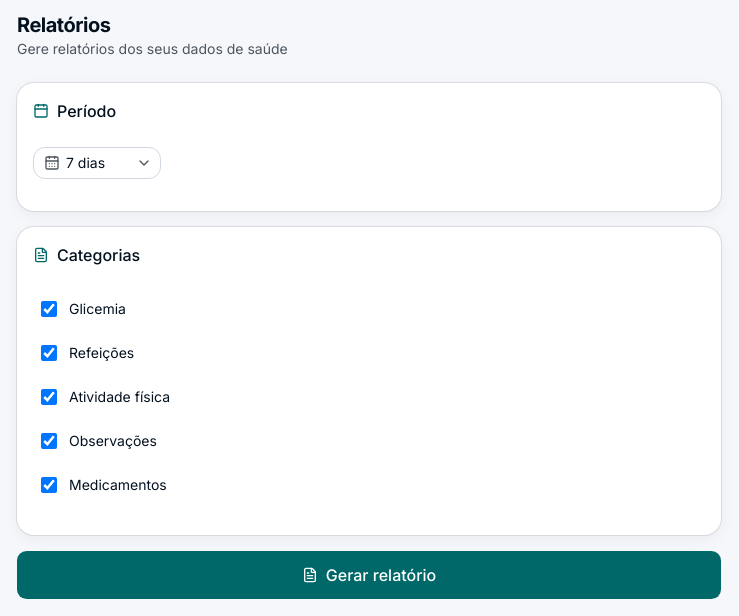
ReportsWidget › disables the generate action when no category is selected
Click the checkbox labelled "Glicemia" at (49, 309), box [41, 301, 57, 317]
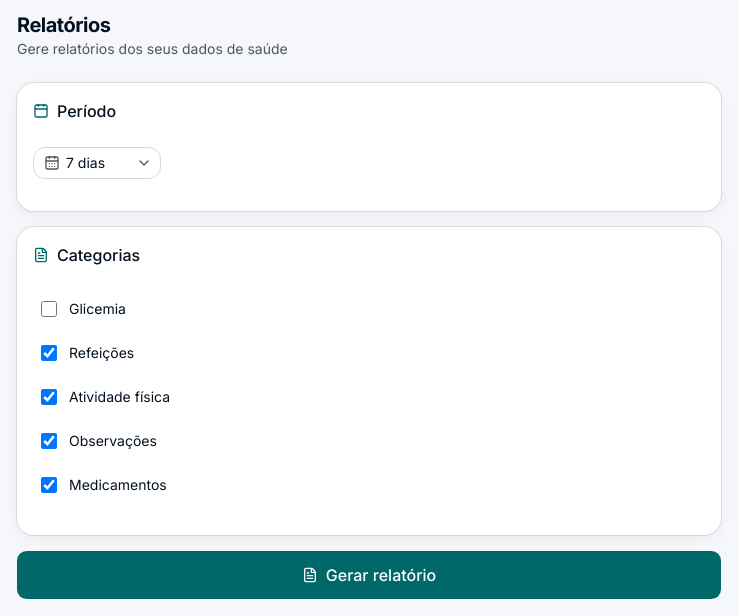
Click the checkbox labelled "Refeições" at (49, 353), box [41, 345, 57, 361]
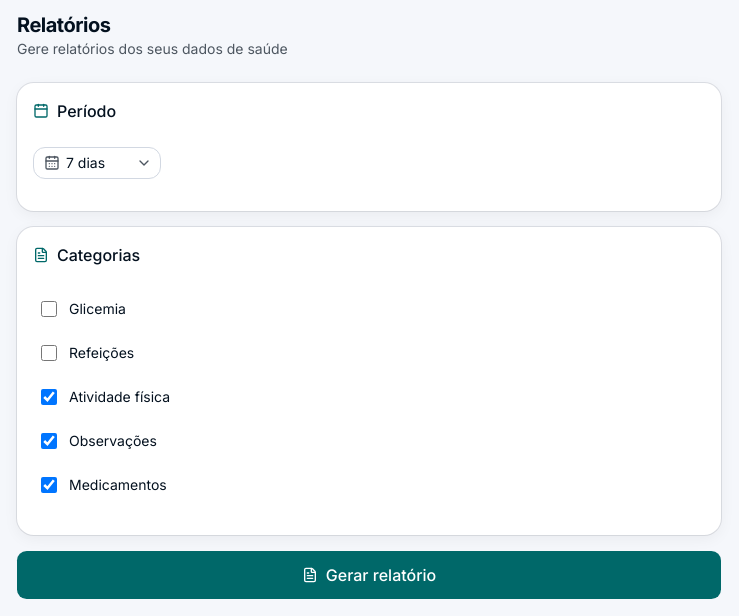
Click the checkbox labelled "Atividade física" at (49, 397), box [41, 389, 57, 405]
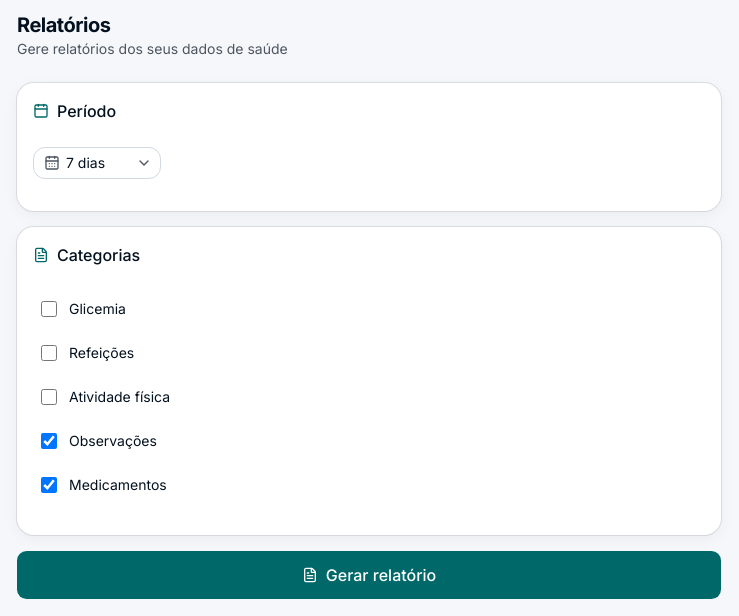
Click the checkbox labelled "Observações" at (49, 441), box [41, 433, 57, 449]
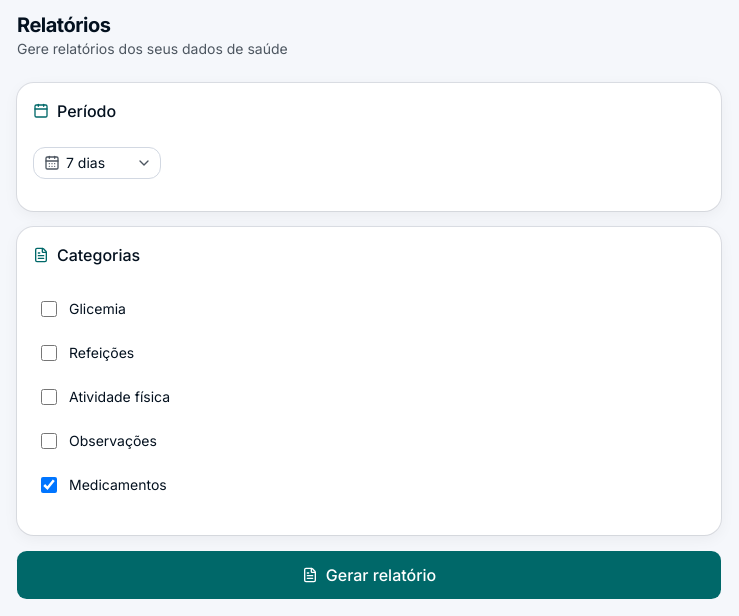
Click the checkbox labelled "Medicamentos" at (49, 485), box [41, 477, 57, 493]
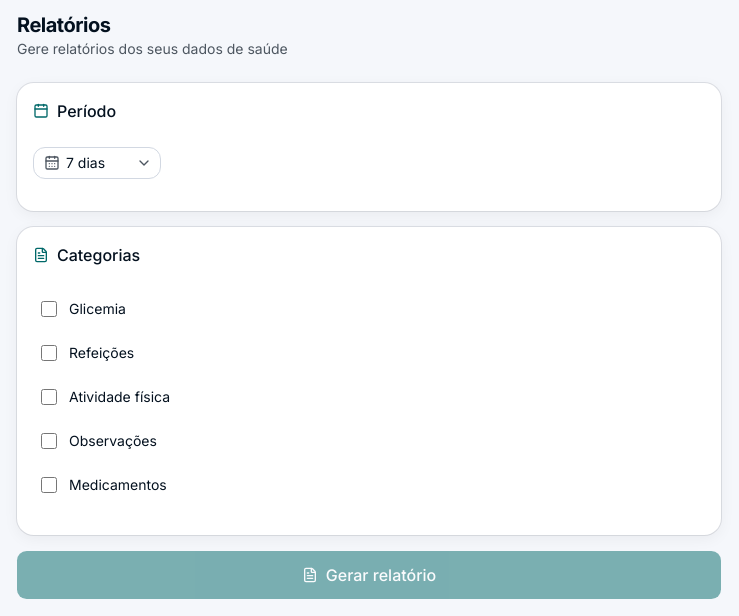
Check: the button "Gerar relatório" is disabled, box [17, 551, 721, 599]
